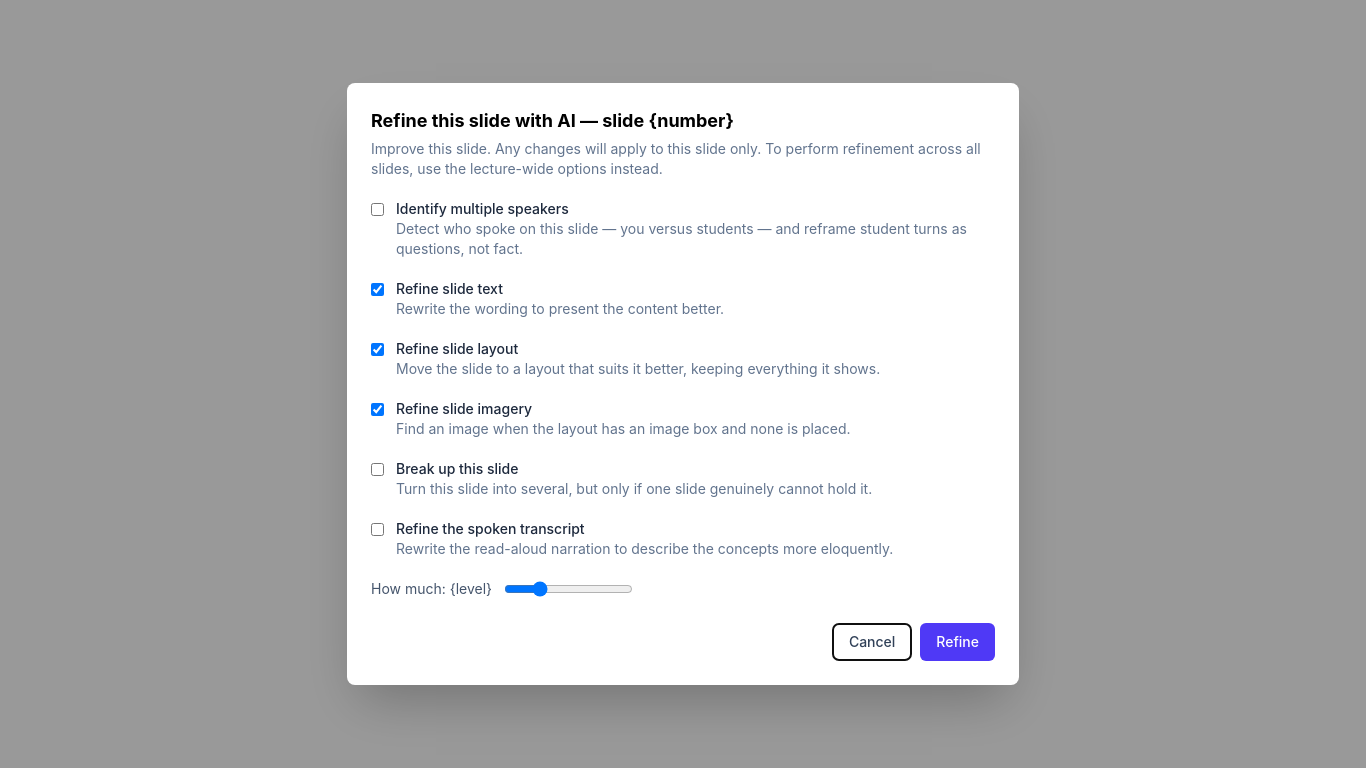
Test: SlideRefineModal › locks the controls while refining
Click the button "Refine" at {"x": 958, "y": 642}, box x1=920 y1=623 x2=995 y2=661
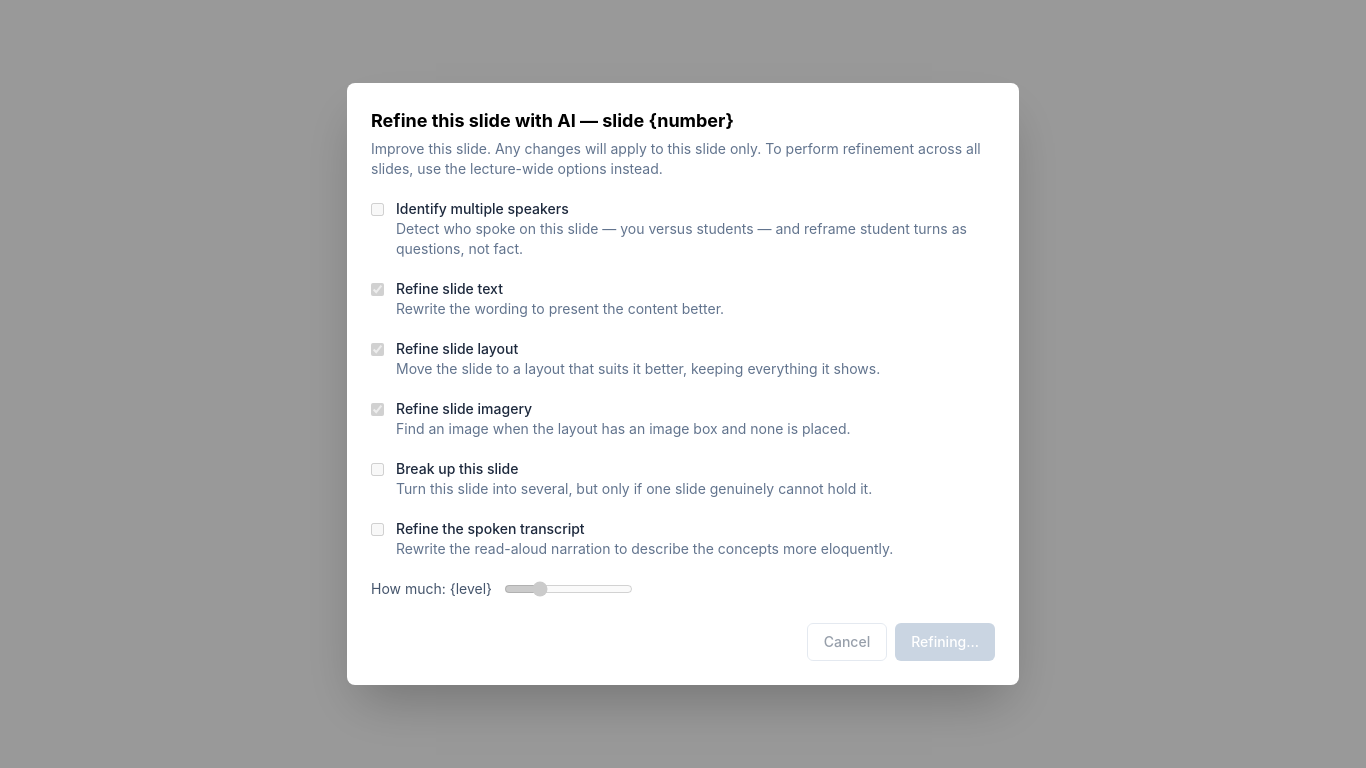
Check: the checkbox labelled "Refine slide text" is disabled, box x1=371 y1=283 x2=384 y2=296
Check: the button "Refining…" is disabled, box x1=895 y1=623 x2=995 y2=661
Check: the button "Cancel" is disabled, box x1=807 y1=623 x2=887 y2=661
